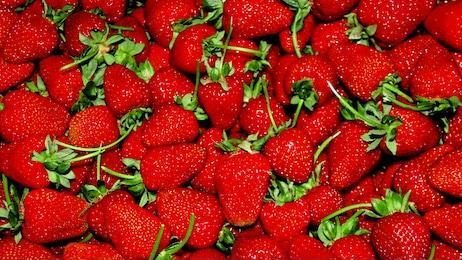Fresa: (323, 37, 399, 104), (151, 184, 228, 250), (325, 112, 386, 195), (214, 148, 272, 230), (19, 184, 92, 246), (104, 198, 172, 260), (1, 89, 75, 145), (261, 121, 319, 190), (406, 37, 462, 107), (1, 130, 66, 190), (378, 104, 445, 160), (137, 98, 203, 153), (2, 7, 64, 65), (139, 140, 209, 191), (98, 60, 157, 120), (370, 205, 433, 260), (196, 70, 247, 135), (280, 50, 336, 109), (166, 20, 226, 73), (218, 1, 296, 39), (254, 193, 314, 242), (66, 101, 122, 153), (63, 8, 119, 60), (304, 178, 347, 229)
